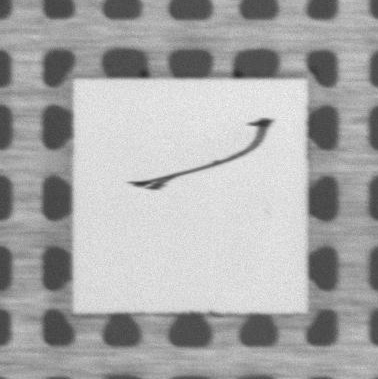DIE_INK: (131, 117, 272, 190)
